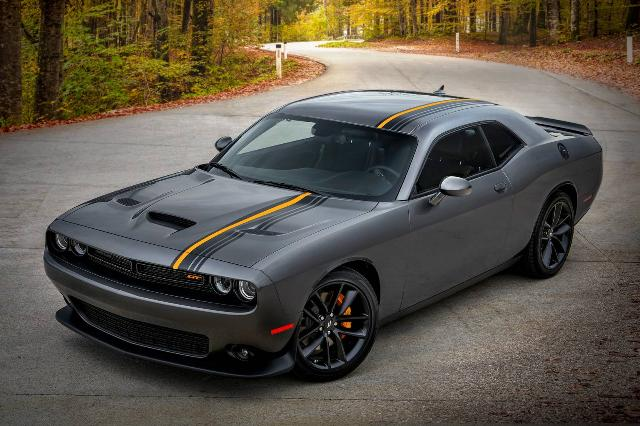dodge: (42, 84, 604, 382)
